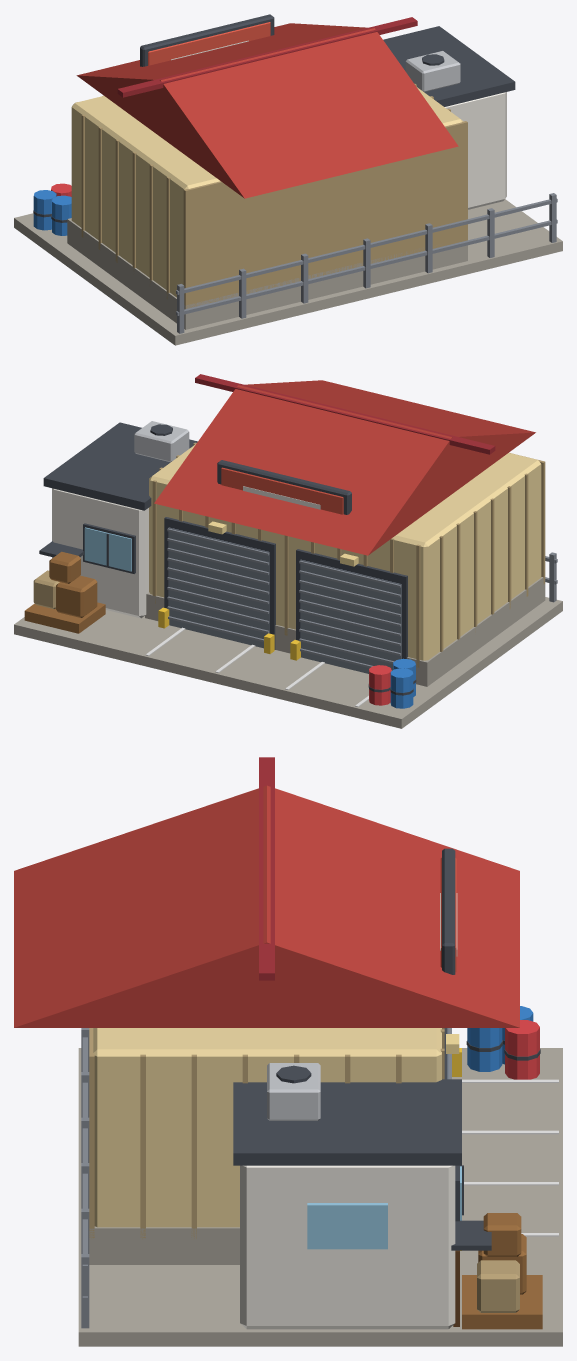
The model's file is garage_l2.glb.
The picture shows the model from 3 angles, top to bottom: view 1: azimuth 30°, elevation 25°; view 2: azimuth 150°, elevation 25°; view 3: azimuth 270°, elevation 25°; orthographic projection. The views are drawn at different scales.
Visible parts, largest first — view 1: garage_l2; view 2: garage_l2; view 3: garage_l2.
Part boxes in pixels (box(x1,y1,x2,y2)): garage_l2: box(14, 14, 562, 345); garage_l2: box(14, 374, 562, 728); garage_l2: box(14, 757, 562, 1346).
Size of the model in its own units: 5.05 by 2.56 by 4.08.
1 material, 1 textured.
